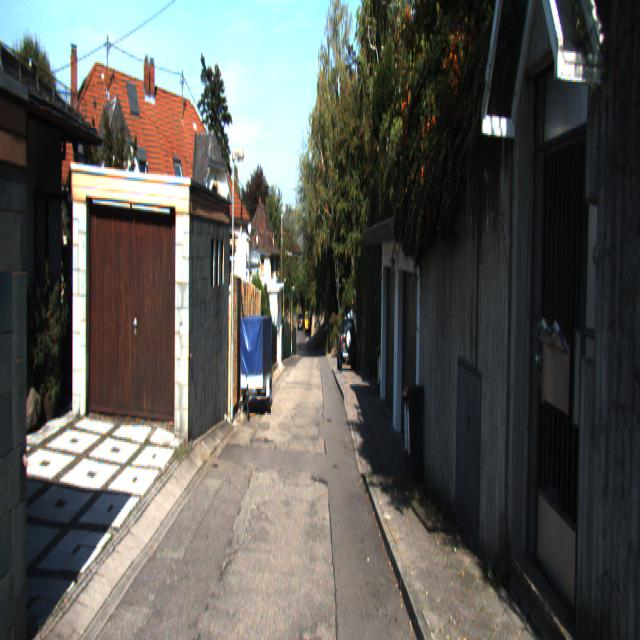Car: (239, 312, 272, 420), (336, 316, 358, 372)
